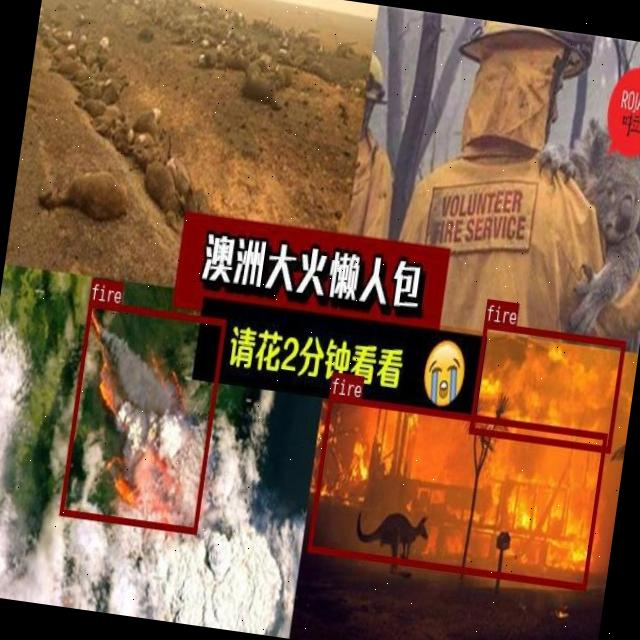fire: (307, 394, 607, 588), (58, 300, 226, 532), (469, 321, 625, 452)
